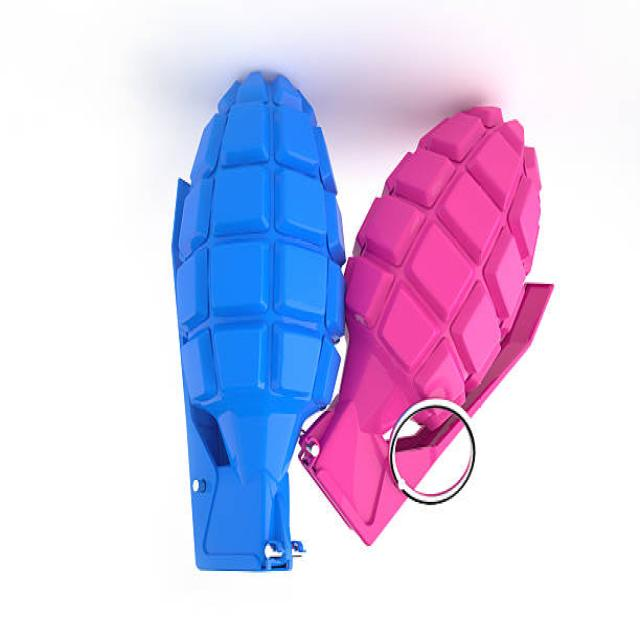grenade: (296, 99, 558, 556), (166, 65, 349, 584)
